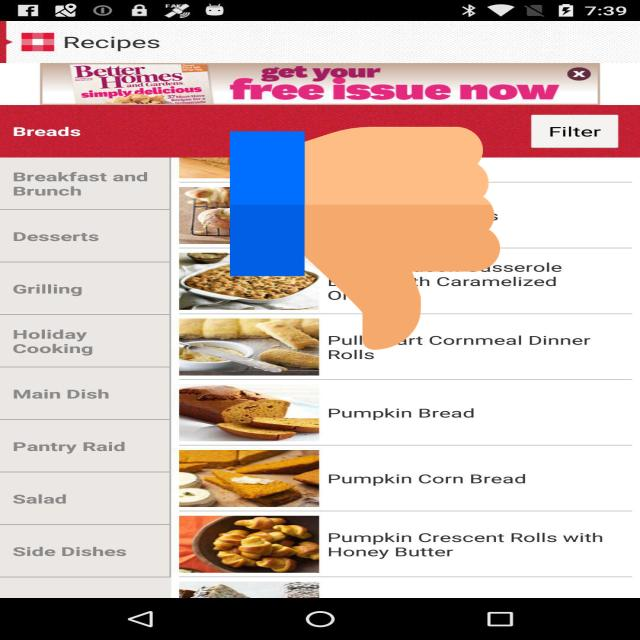obstruction: (230, 122, 500, 356)
